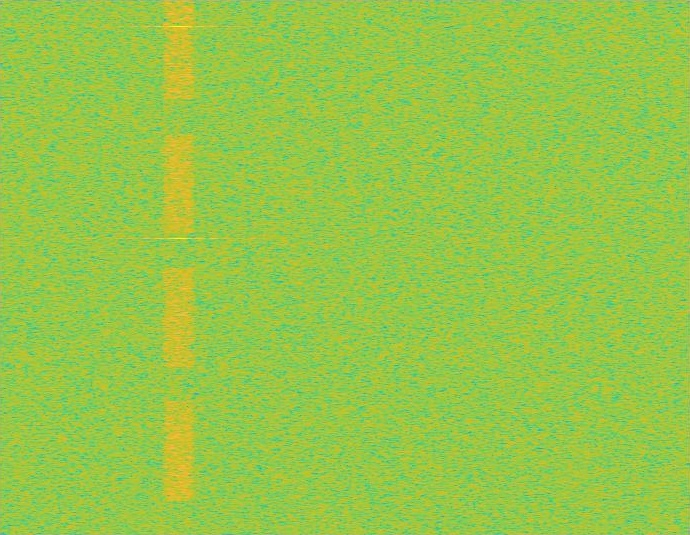5G: (162, 0, 196, 534)
Radar: (173, 0, 187, 534)
